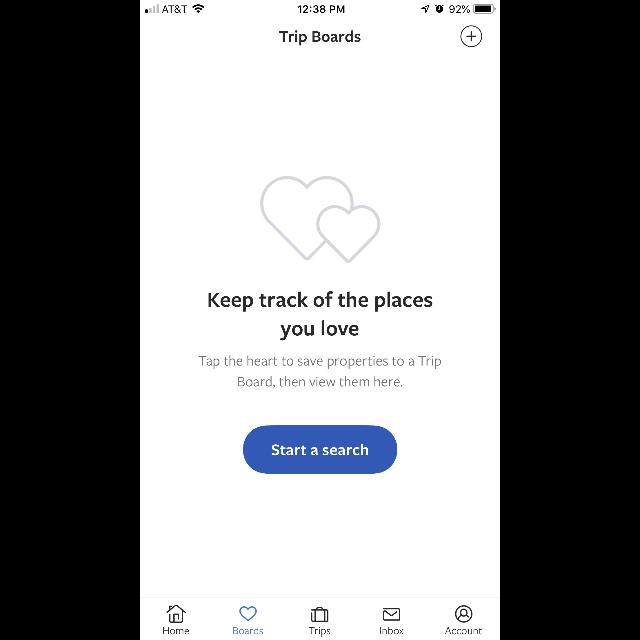icon: (460, 25, 482, 47), (166, 605, 186, 623), (456, 606, 472, 622), (312, 606, 328, 622), (240, 606, 256, 622), (384, 608, 401, 620)
image: (260, 175, 380, 262)
text: (209, 292, 433, 341), (199, 356, 441, 388), (280, 30, 360, 46), (233, 627, 263, 635), (446, 628, 482, 634), (310, 627, 330, 637), (381, 627, 404, 635), (163, 628, 189, 634)
textbutton: (243, 426, 397, 474)
uppertaskbar: (140, 0, 500, 14)
